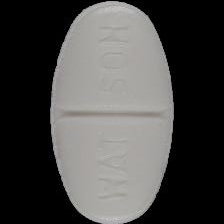55700-001: (0, 0, 224, 224)
